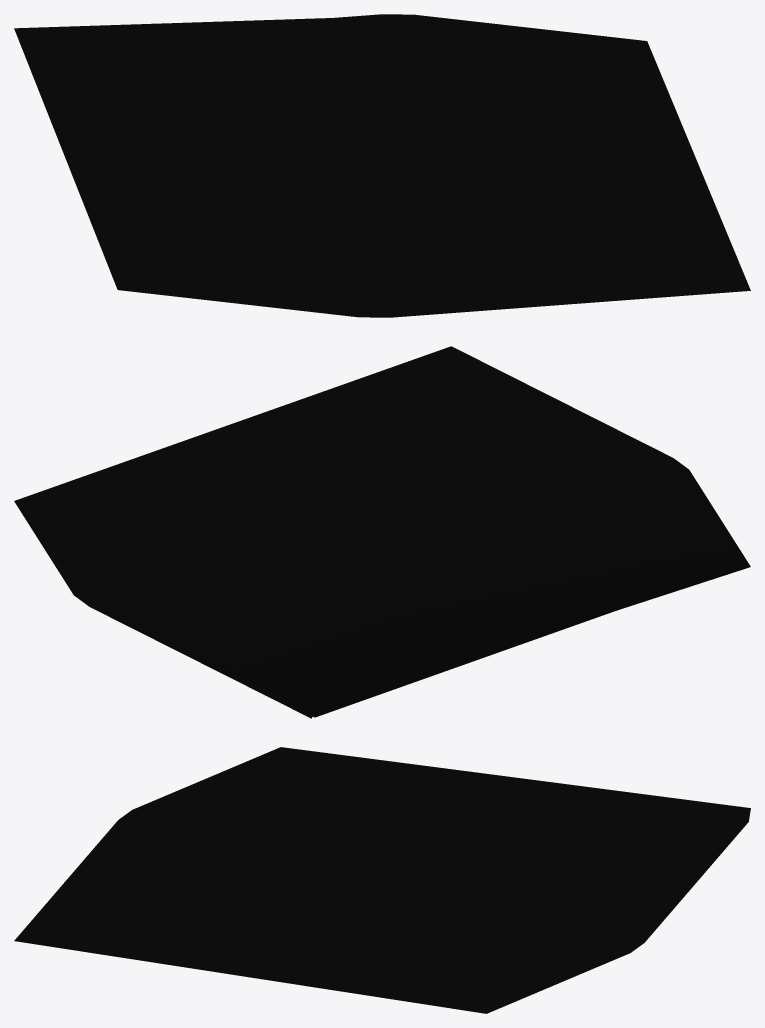
3 renders of one model, top to bottom at view 1: azimuth 30°, elevation 25°; view 2: azimuth 150°, elevation 25°; view 3: azimuth 270°, elevation 25°, orthographic. The views are drawn at different scales.
Parts seen in each view (by area): view 1: Joint_0_Object_0; view 2: Joint_0_Object_0; view 3: Joint_0_Object_0.
Part boxes in pixels (x1,y1,x2,y2): Joint_0_Object_0: [14, 14, 750, 317]; Joint_0_Object_0: [14, 346, 750, 718]; Joint_0_Object_0: [14, 747, 750, 1013].
Bounding box in the file's own units: 956 × 18.75 × 1116.
Materials: 1 (1 with a texture image).
